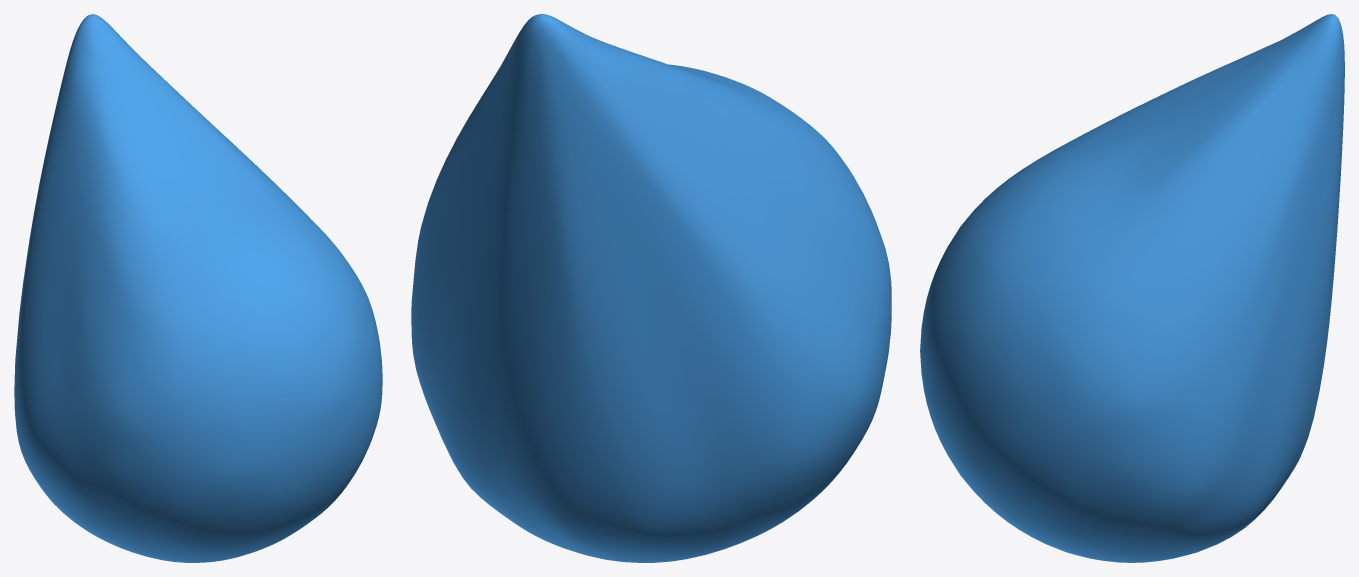
The model's file is SP_WaterDrop.fbx.
The picture shows the model from 3 angles, left to right: view 1: azimuth 30°, elevation 25°; view 2: azimuth 150°, elevation 25°; view 3: azimuth 270°, elevation 25°; orthographic projection. The views are drawn at different scales.
Parts seen in each view (by area): view 1: Icosphere; view 2: Icosphere; view 3: Icosphere.
Boxes of the visible parts, bbox=[...] form: Icosphere: bbox=[14, 14, 382, 562]; Icosphere: bbox=[411, 14, 891, 562]; Icosphere: bbox=[920, 14, 1344, 562].
Size of the model in its own units: 183 by 252 by 186.
